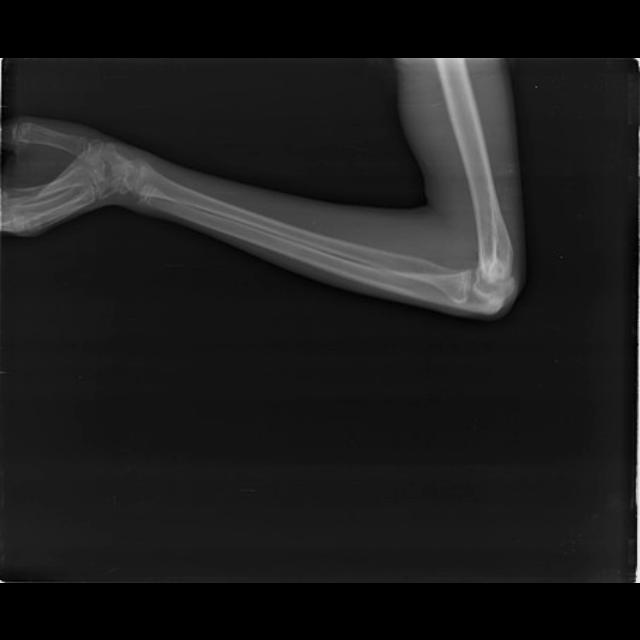Fracture: (475, 268, 517, 292)
